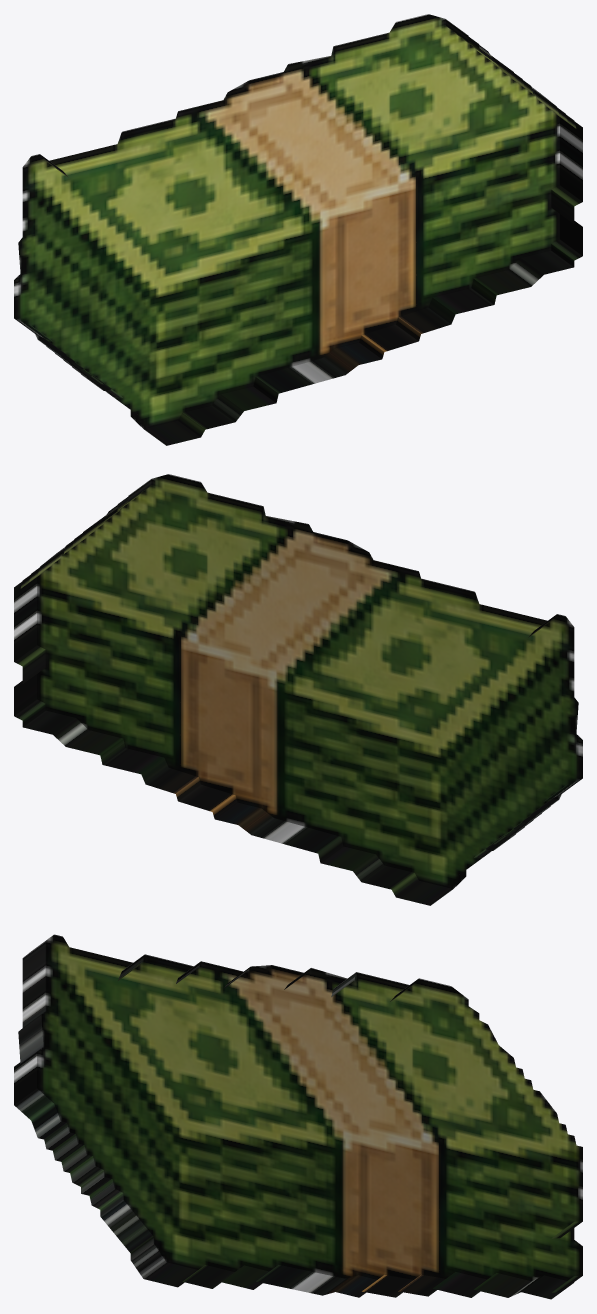
File: money_medium.glb
3 renders of one model, top to bottom at view 1: azimuth 30°, elevation 25°; view 2: azimuth 150°, elevation 25°; view 3: azimuth 330°, elevation 25°, orthographic.
Parts seen in each view (by area): view 1: world; view 2: world; view 3: world.
Part boxes in pixels (box(x1,y1,x2,y2)): world: box(14, 14, 582, 445); world: box(14, 474, 582, 905); world: box(14, 934, 582, 1299).
Bounding box in the file's own units: 2.53 × 1.53 × 0.1848.
1 material, 1 textured.
